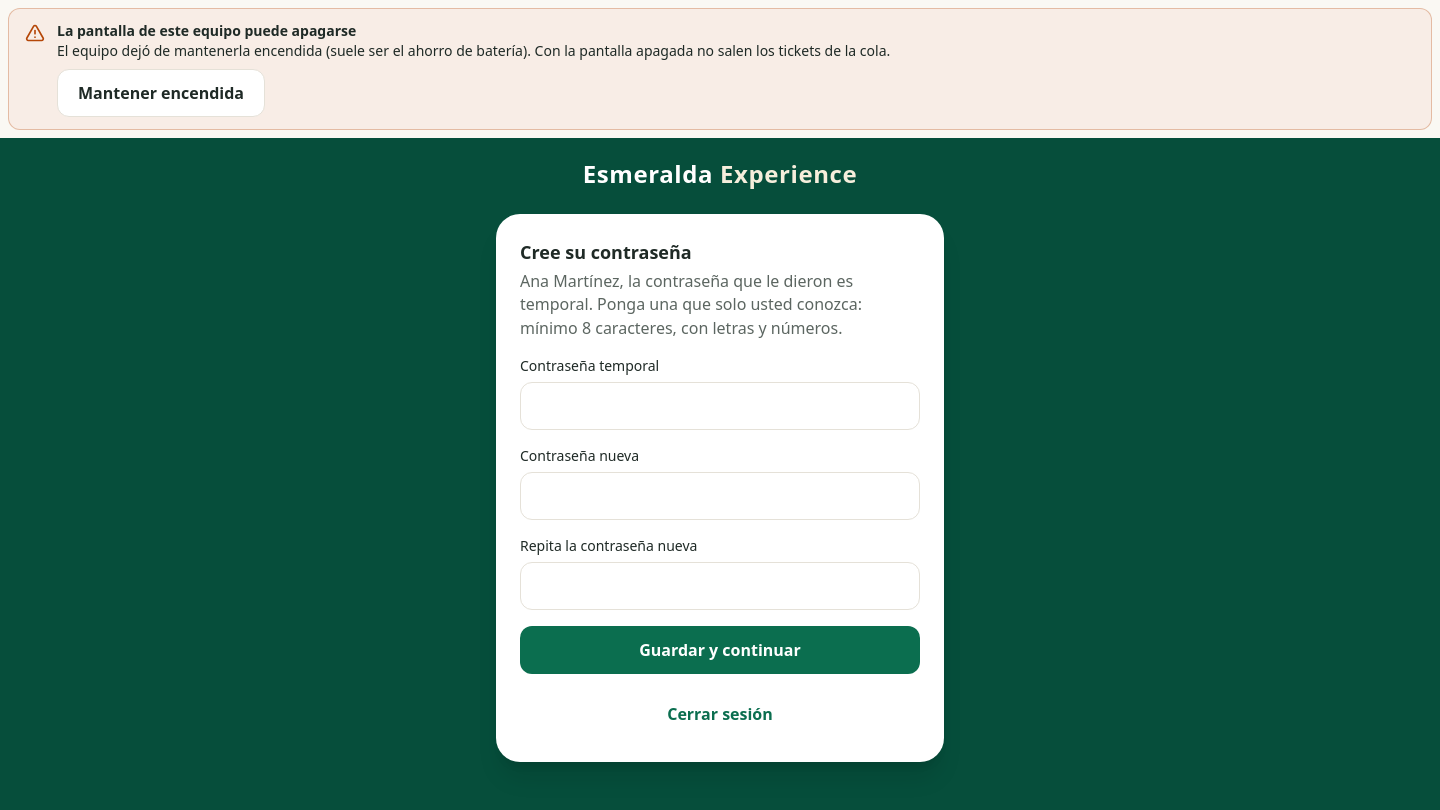
Test: con una contraseña temporal › no se pasa de crear la propia, y se valida antes de enviarla
(page scrolled)
Expected: the heading "Cree su contraseña" is shown, [520,240,692,264]
Step 1. Type "k7mx-9qdw-t3hp" into the password field labelled "Contraseña temporal" → (720, 406), box [520,382,920,430]
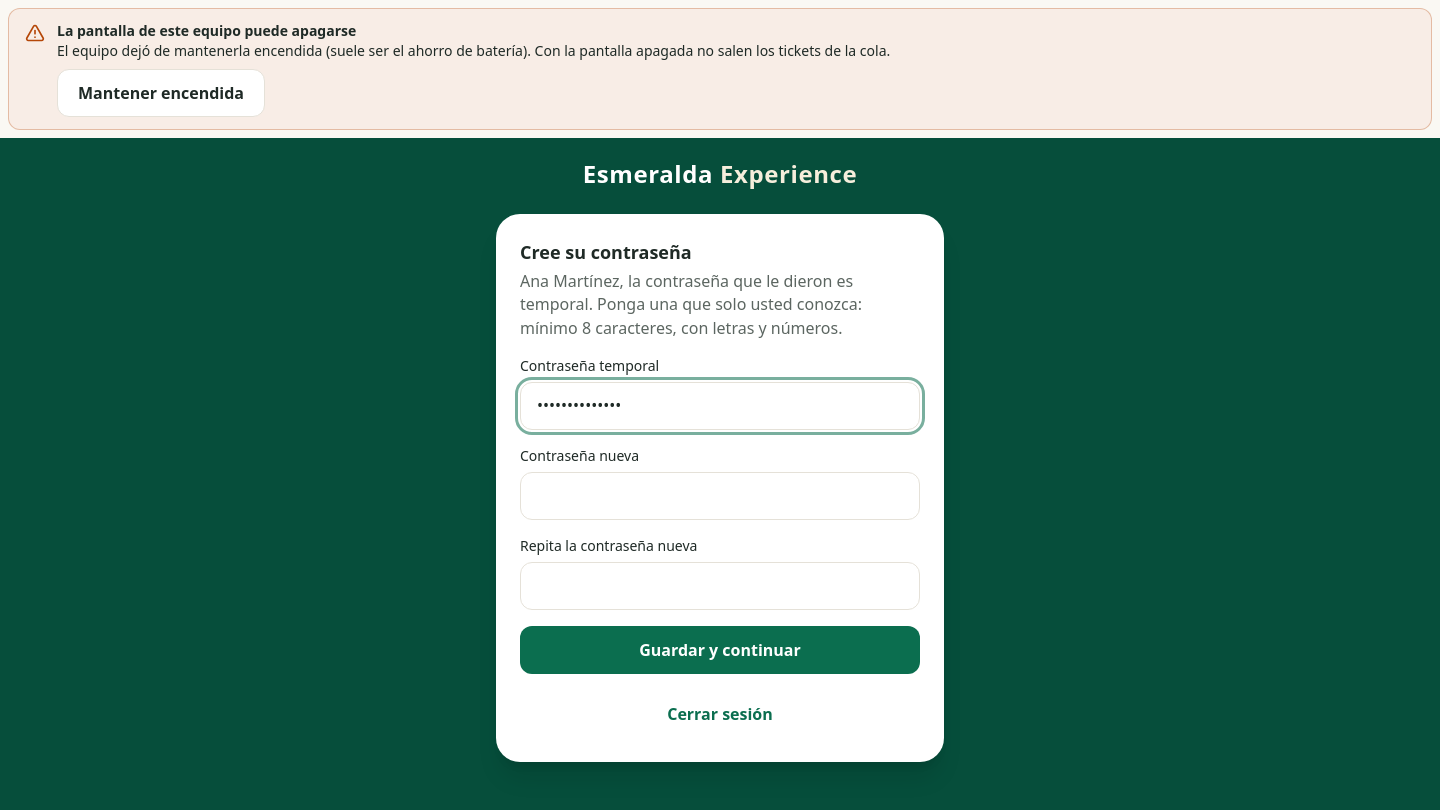
Step 2. Type "corta1" into the password field labelled "Contraseña nueva" → (720, 496), box [520,472,920,520]
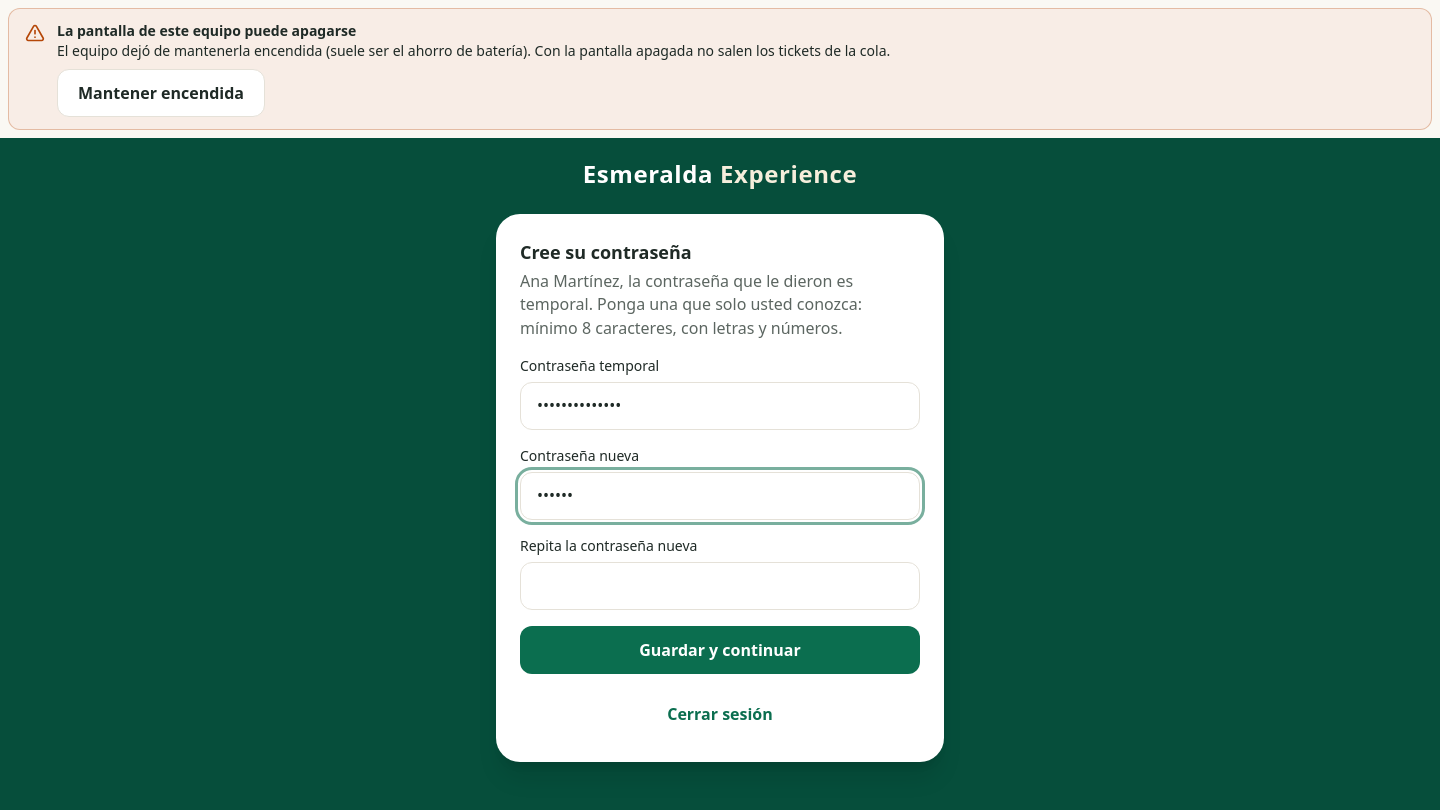
Step 3. Type "otra" into the password field labelled "Repita la contraseña nueva" → (720, 586), box [520,562,920,610]
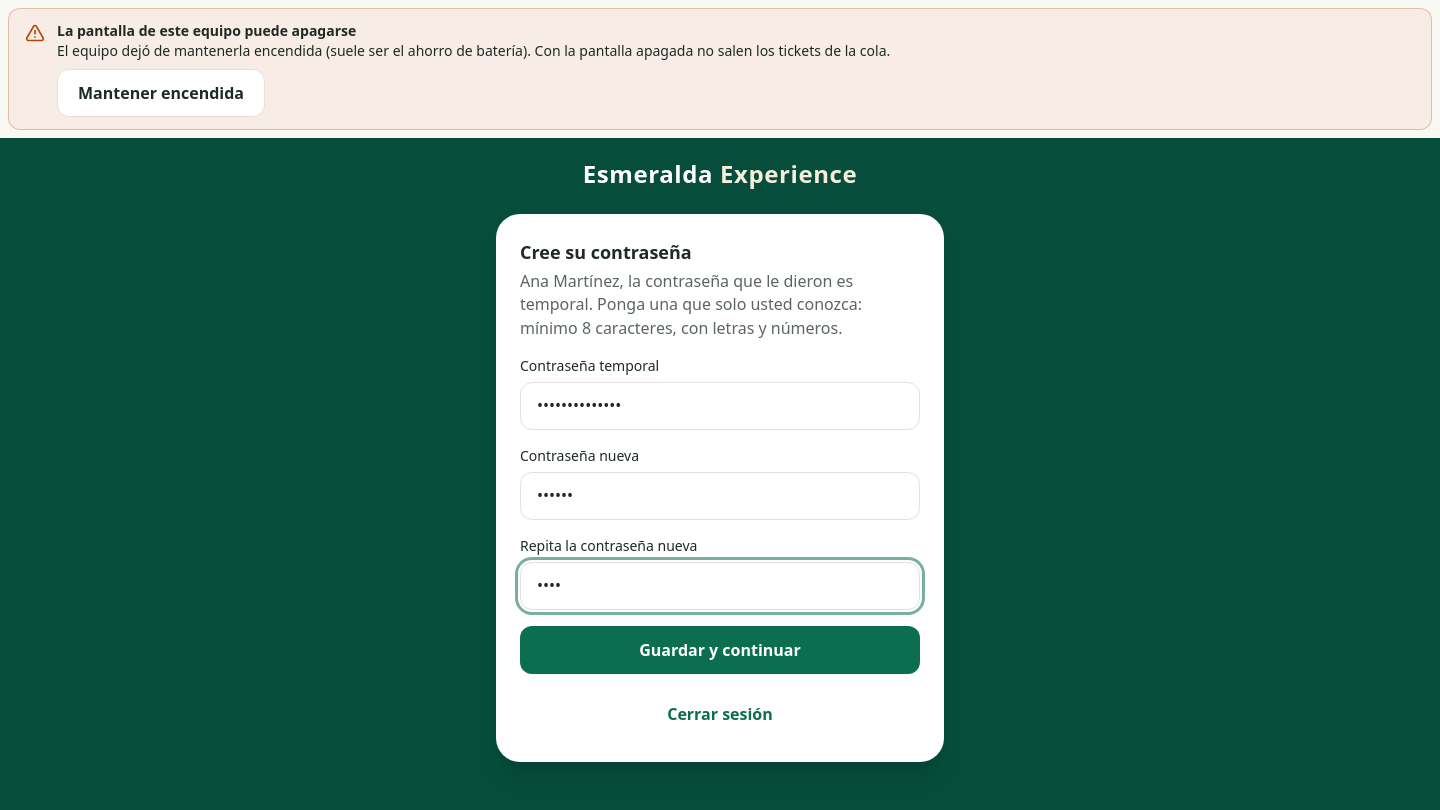
Step 4. Click the button "Guardar y continuar" → (720, 650), box [520,626,920,674]
(page scrolled)
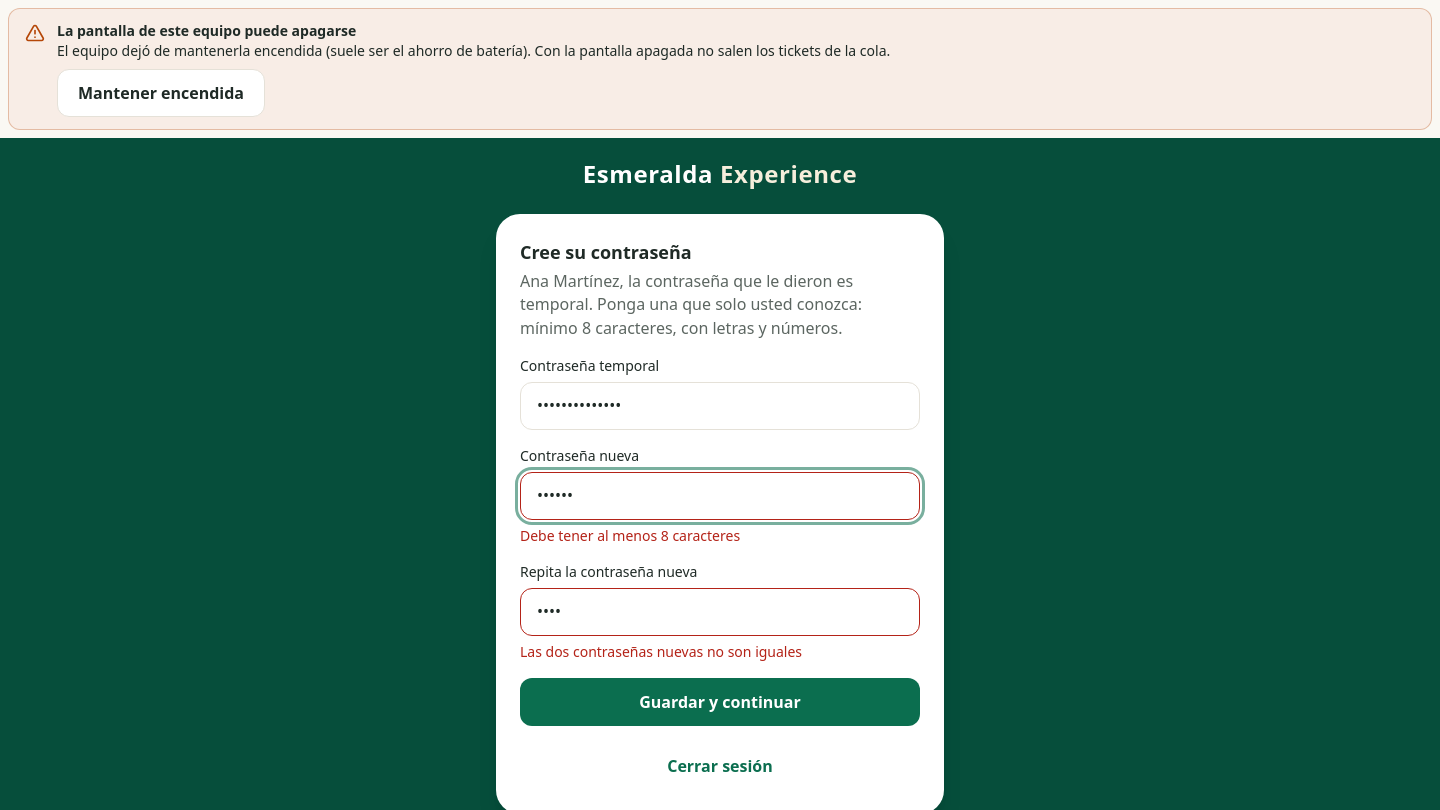
Expected: the text "Debe tener al menos 8 caracteres" is shown, [520,526,740,545]
Expected: the text "Las dos contraseñas nuevas no son iguales" is shown, [520,642,802,661]
